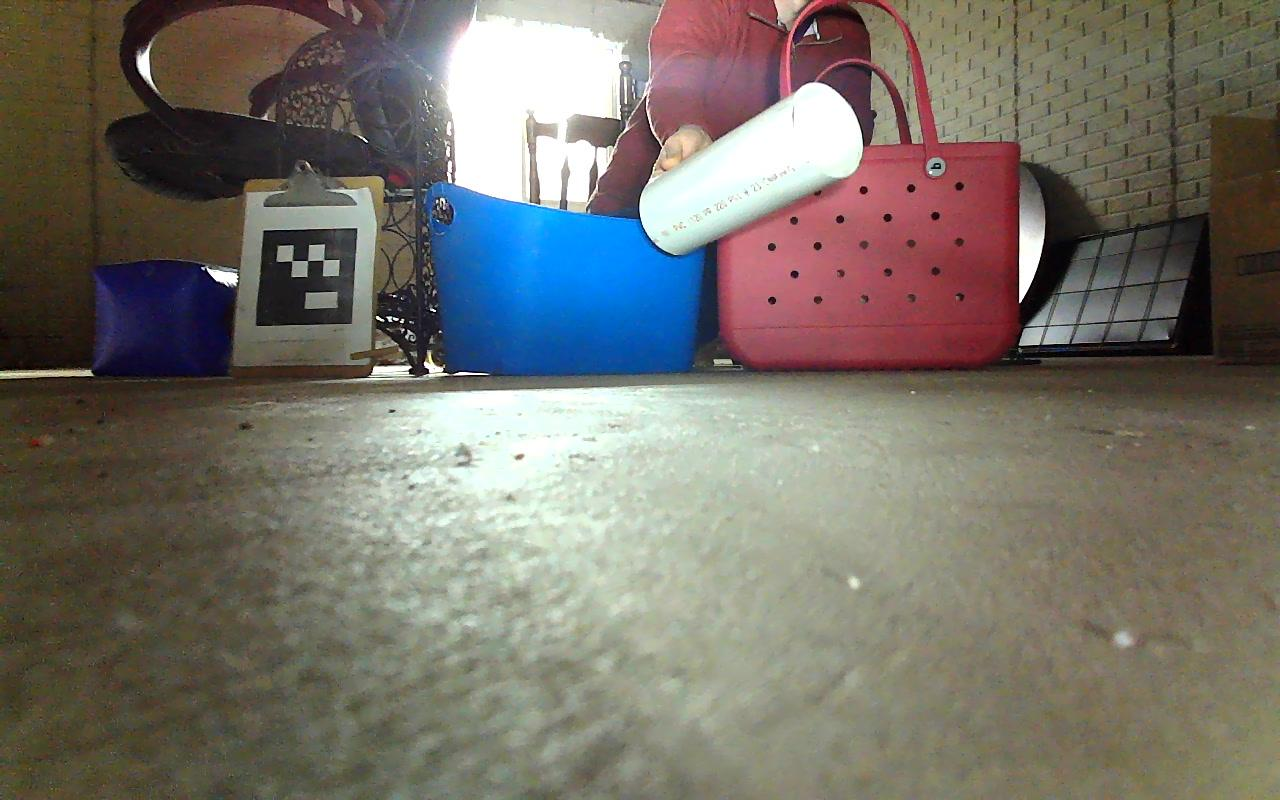coral: (637, 83, 865, 259)
